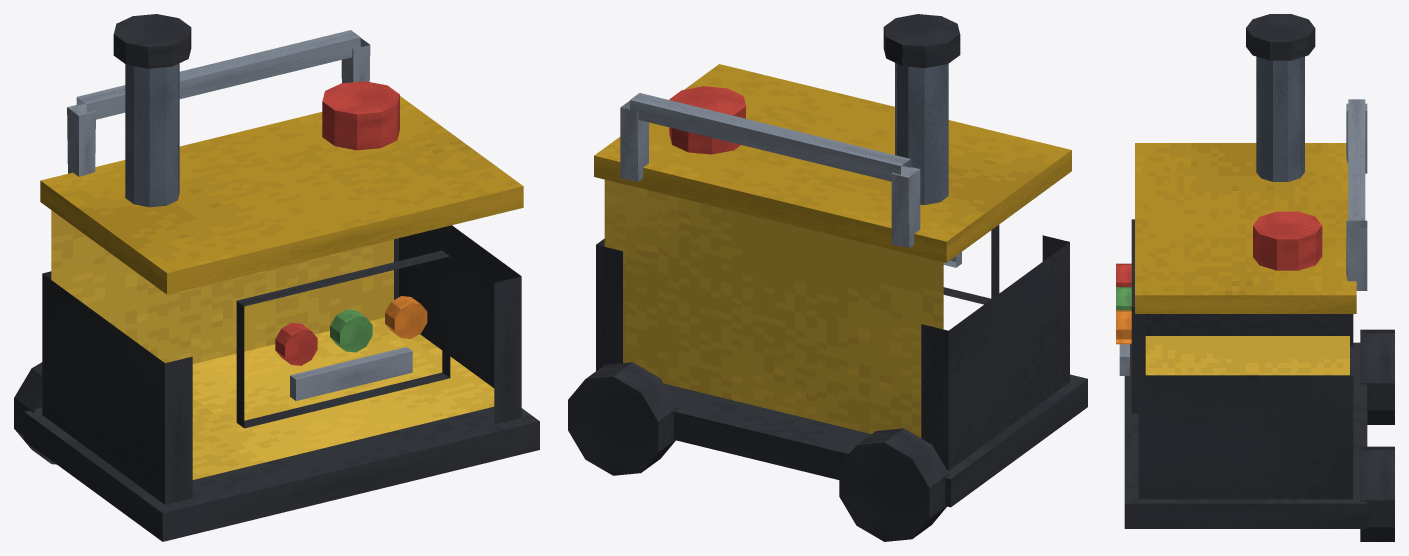
File: prop_generator.glb
3 renders of one model, left to right at view 1: azimuth 30°, elevation 25°; view 2: azimuth 150°, elevation 25°; view 3: azimuth 270°, elevation 25°, orthographic. The views are drawn at different scales.
Parts seen in each view (by area): view 1: prop_generator; view 2: prop_generator; view 3: prop_generator.
Boxes of the visible parts, <box> form: prop_generator: <box>14,14,539,541</box>; prop_generator: <box>568,14,1087,541</box>; prop_generator: <box>1116,14,1394,541</box>.
Bounding box in the file's own units: 1.1 × 1.29 × 0.805.
Materials: 1 (1 with a texture image).
